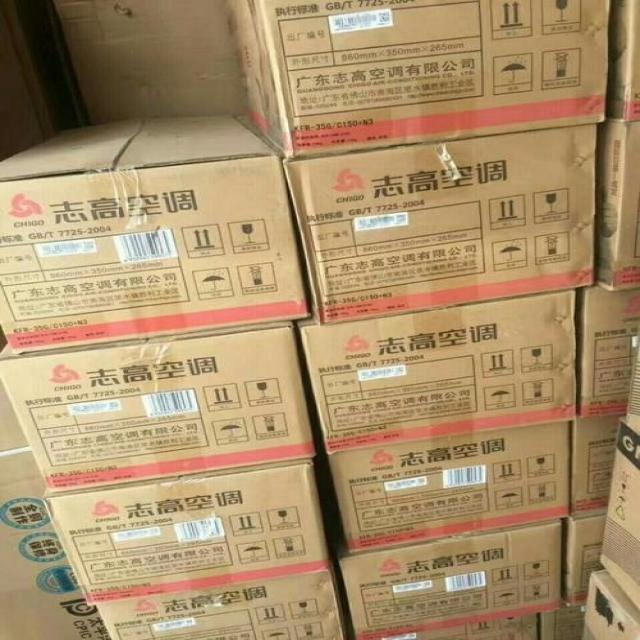box: (0, 114, 310, 354), (282, 125, 597, 323), (225, 1, 608, 157), (0, 322, 317, 494), (295, 288, 576, 455), (42, 458, 328, 607), (327, 421, 571, 551), (334, 519, 561, 639), (95, 567, 347, 639)
